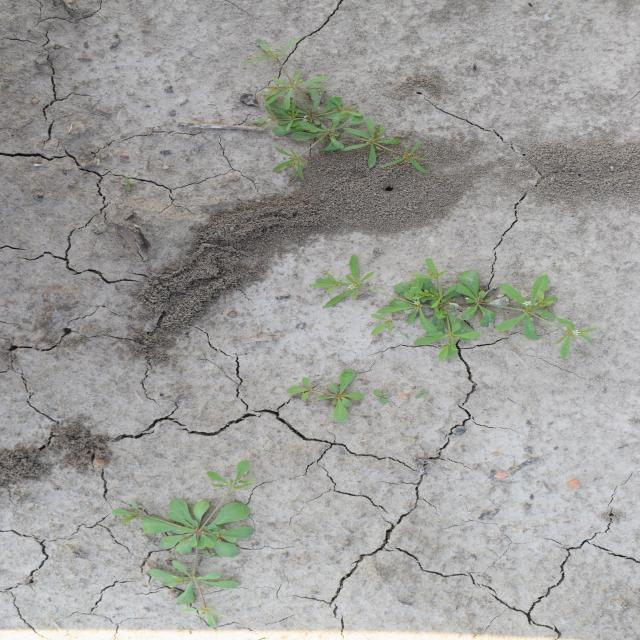Carpetweed: (309, 253, 602, 364), (240, 36, 433, 182), (110, 458, 260, 630), (282, 367, 366, 422)
